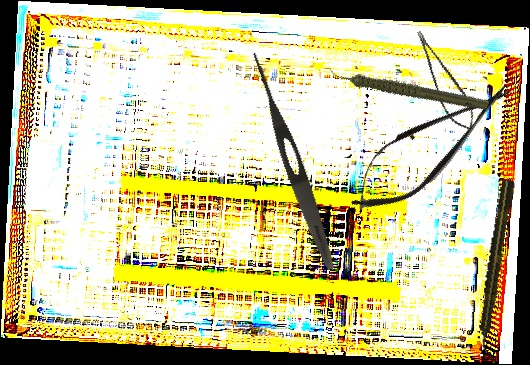Dressing Forceps: (243, 49, 341, 273)
Handpiece: (327, 32, 491, 143), (473, 178, 517, 354)
Micro Scissor: (335, 63, 527, 229), (413, 23, 480, 136)
